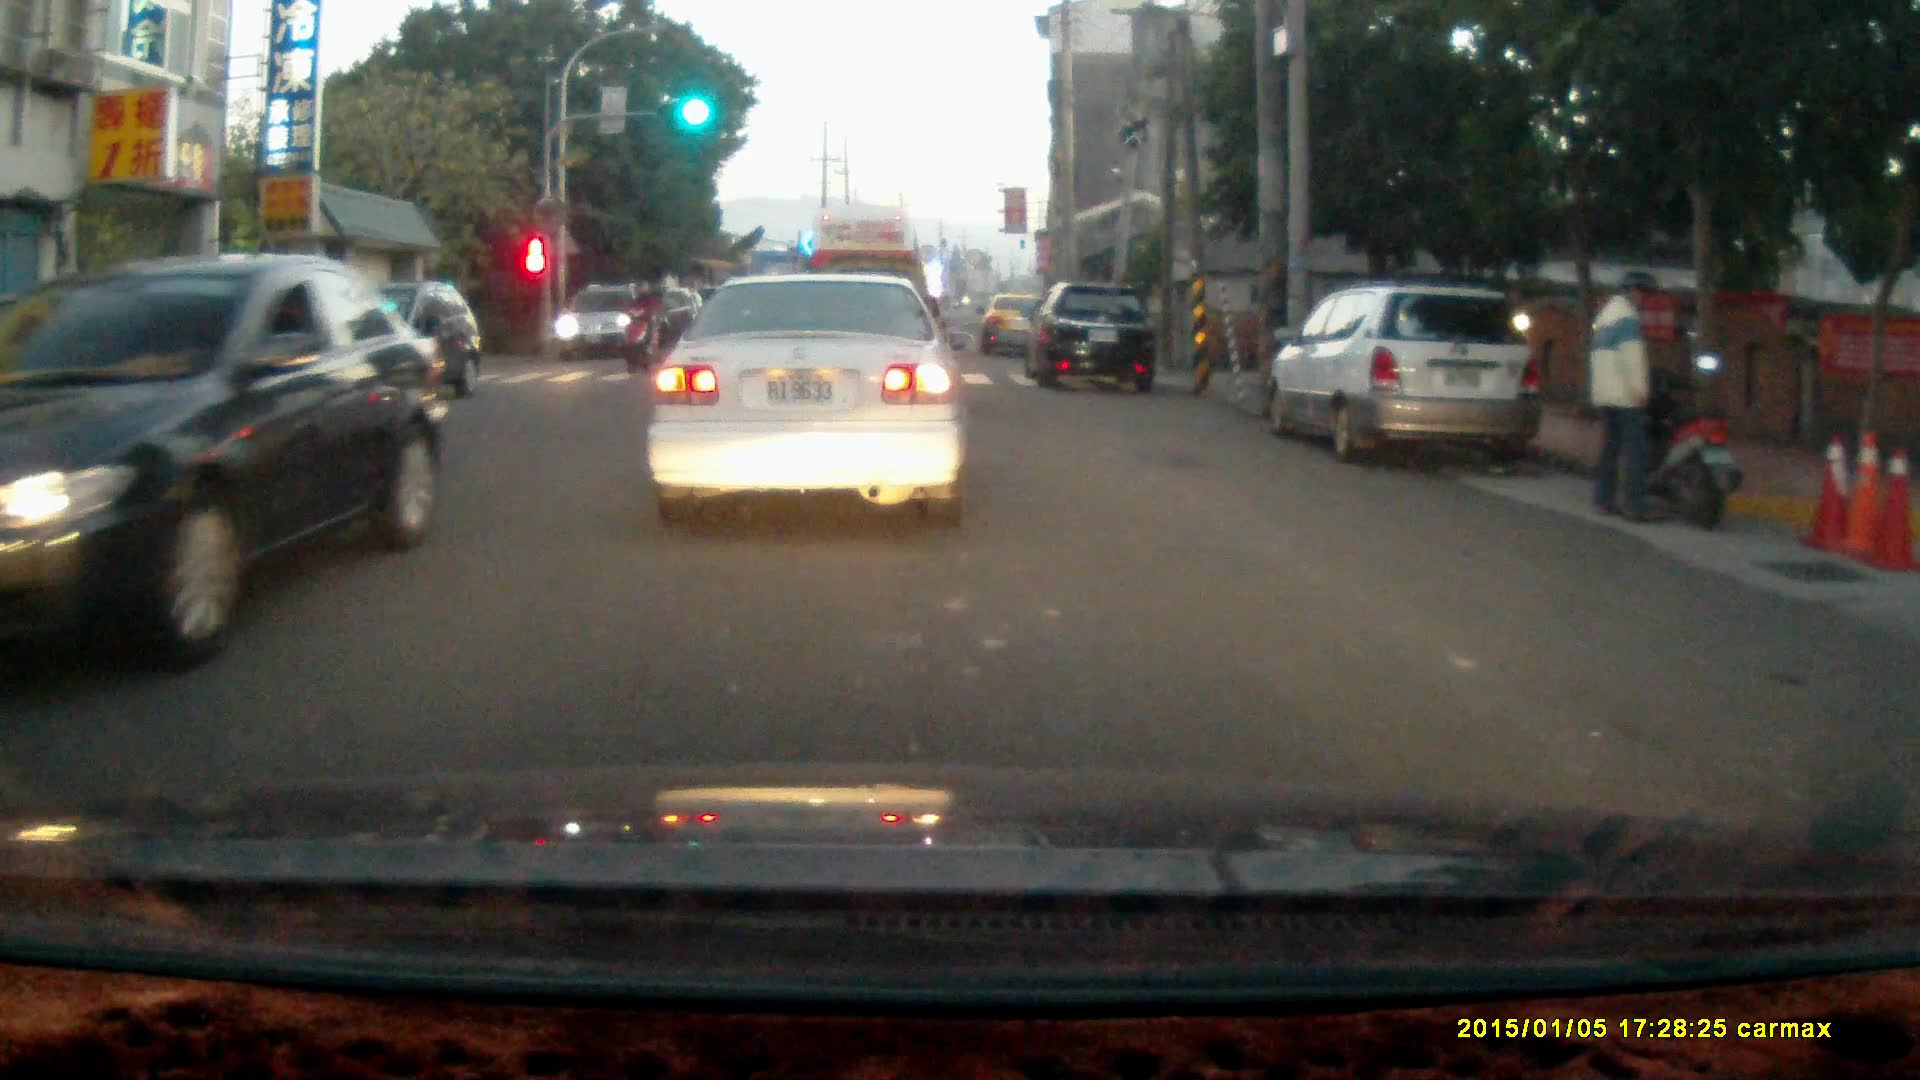pedestrian: (1581, 269, 1662, 526)
rider: (616, 277, 656, 371)
vehicle: (1, 252, 456, 677), (645, 272, 967, 526), (1280, 285, 1545, 470), (809, 204, 931, 366), (1027, 279, 1166, 392), (557, 281, 658, 355), (976, 291, 1070, 362)
